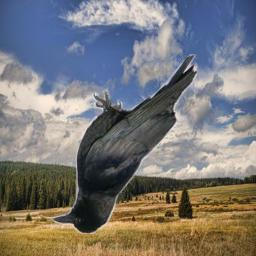Crow: (50, 54, 197, 234)
